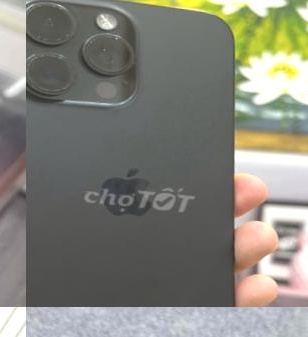scratch: (26, 0, 147, 115)
